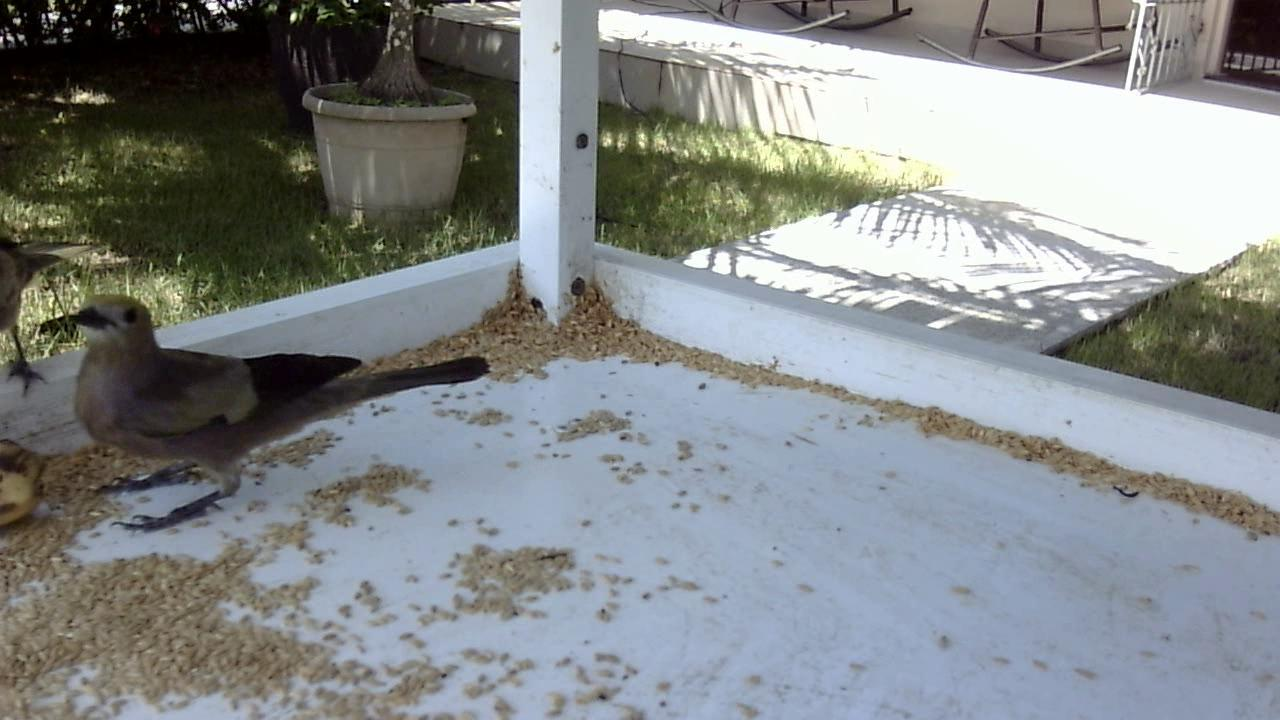sanhaco_do_coqueiro: (50, 293, 504, 543), (1, 225, 94, 398)
